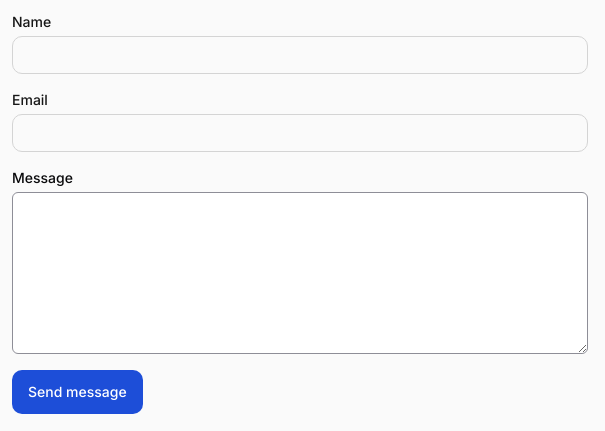
Scenario: ContactForm › shows the api error detail when the api rejects the message
Type "Ana" into the field labelled "Name" at (300, 55), box [12, 36, 588, 74]
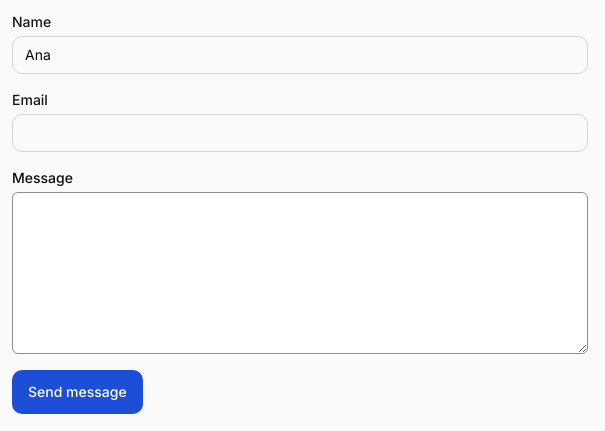
Type "ana@example.com" into the field labelled "Email" at (300, 133), box [12, 114, 588, 152]
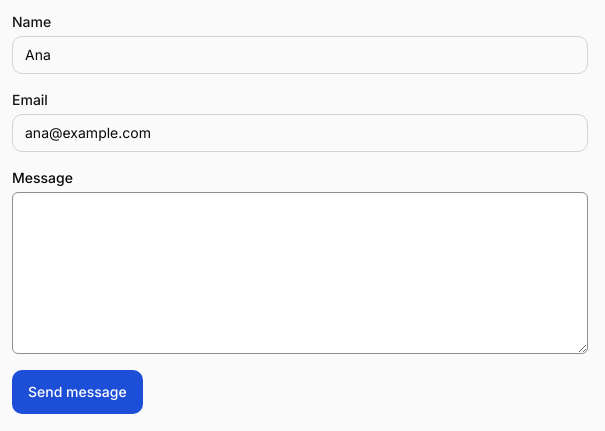
Type "Hello, I would like to talk." into the text box labelled "Message" at (300, 273), box [12, 192, 588, 354]
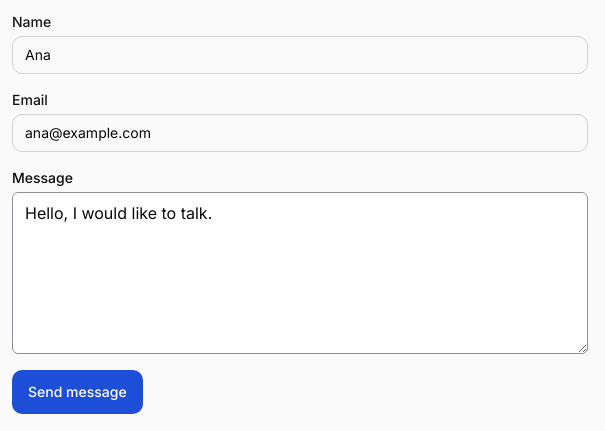
Click the button "Send message" at (77, 392), box [12, 370, 143, 414]
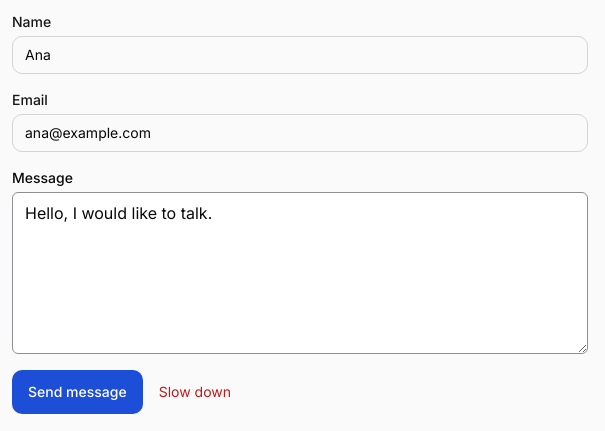
Now the message reads "Slow down", box [159, 383, 231, 400]
